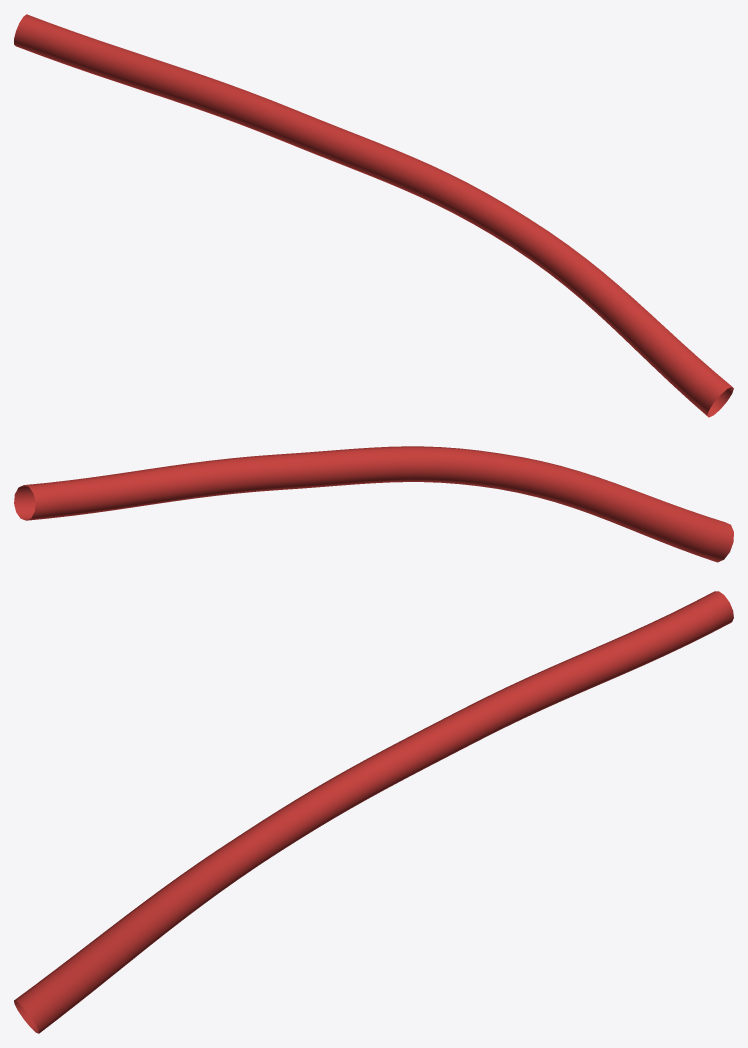
3 renders of one model, top to bottom at view 1: azimuth 90°, elevation 25°; view 2: azimuth 150°, elevation 25°; view 3: azimuth 330°, elevation 25°, orthographic. The views are drawn at different scales.
Visible parts, largest first — view 1: 左侧肱深动脉; view 2: 左侧肱深动脉; view 3: 左侧肱深动脉.
Boxes of the visible parts, x1,y1,x2,y2 form: 左侧肱深动脉: (14,14,733,417); 左侧肱深动脉: (14,446,733,562); 左侧肱深动脉: (14,591,733,1033).
Size of the model in its own units: 0.0518 by 0.0351 by 0.0928.
